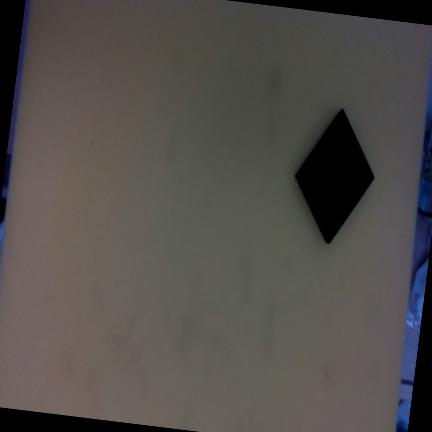tile: (274, 107, 397, 243)
